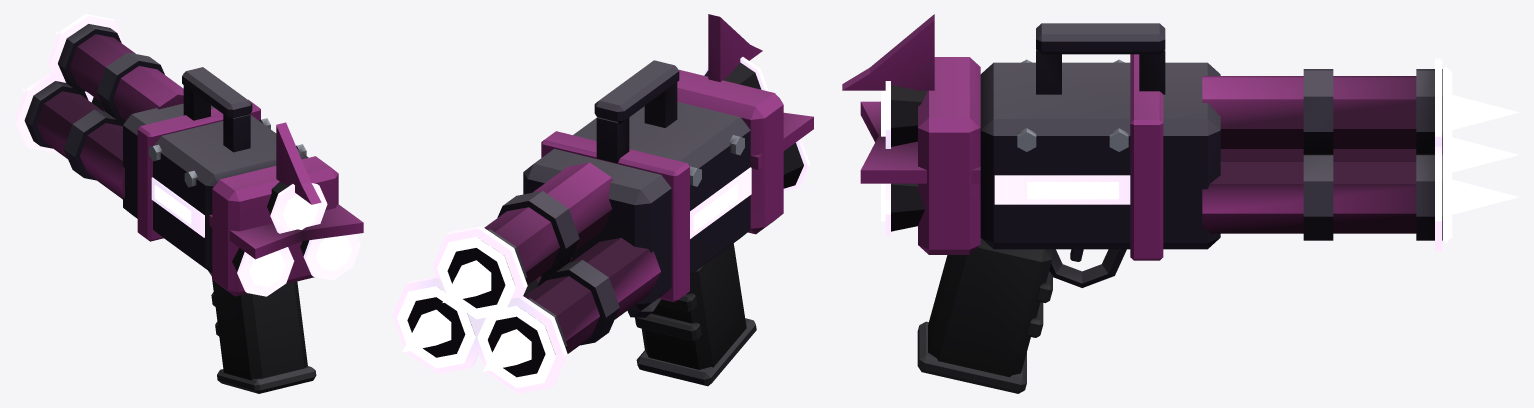
The model's file is Hornet.glb.
3 renders of one model, left to right at view 1: azimuth 30°, elevation 25°; view 2: azimuth 150°, elevation 25°; view 3: azimuth 270°, elevation 25°, orthographic. The views are drawn at different scales.
Visible parts, largest first — view 1: Body, Halo_Glow, Accent_Glow; view 2: Body, Accent_Glow, Halo_Glow; view 3: Body, Accent_Glow, Halo_Glow.
Boxes of the visible parts, bbox=[...] form: Body: bbox=[24, 24, 363, 393]; Halo_Glow: bbox=[14, 14, 360, 296]; Accent_Glow: bbox=[23, 32, 351, 286]; Body: bbox=[407, 14, 813, 386]; Accent_Glow: bbox=[397, 184, 738, 387]; Halo_Glow: bbox=[392, 57, 810, 393]; Body: bbox=[842, 14, 1442, 393]; Accent_Glow: bbox=[881, 67, 1519, 242]; Halo_Glow: bbox=[885, 58, 1442, 250].
Size of the model in its own units: 1.16 by 2.15 by 3.67.
